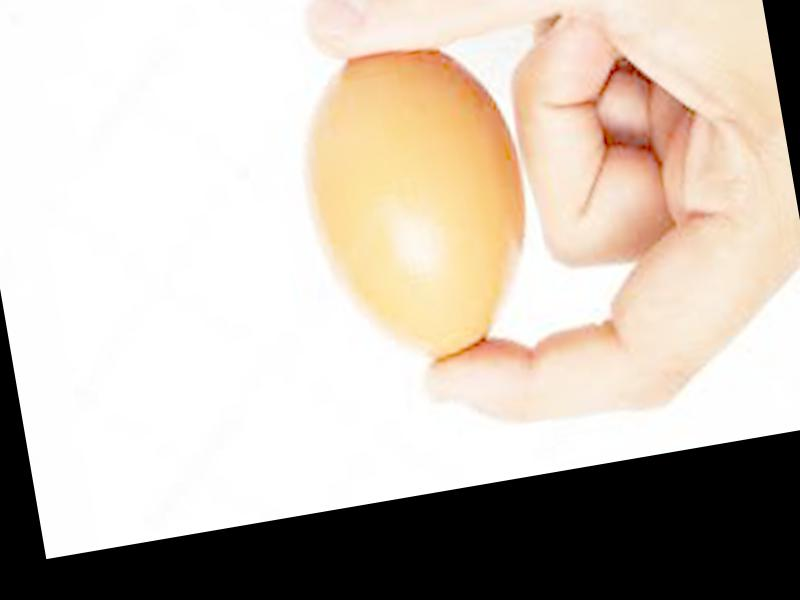Eggs: (283, 32, 552, 382)
